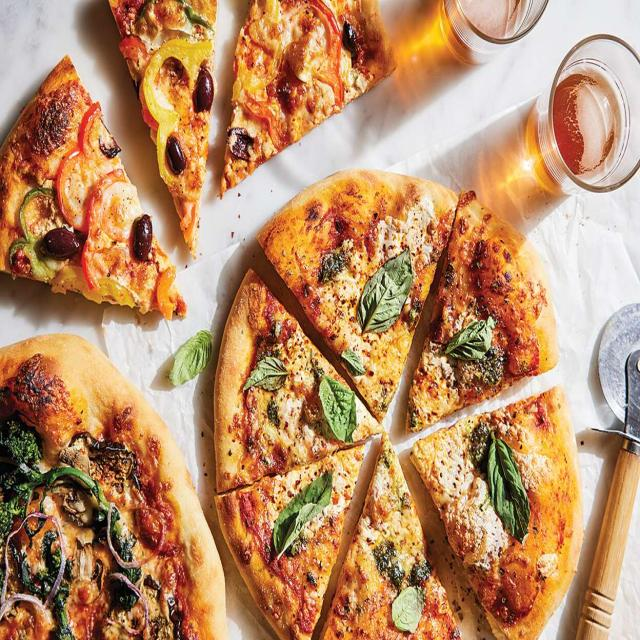pizza: (214, 175, 583, 640), (0, 0, 398, 331), (0, 334, 225, 640)
